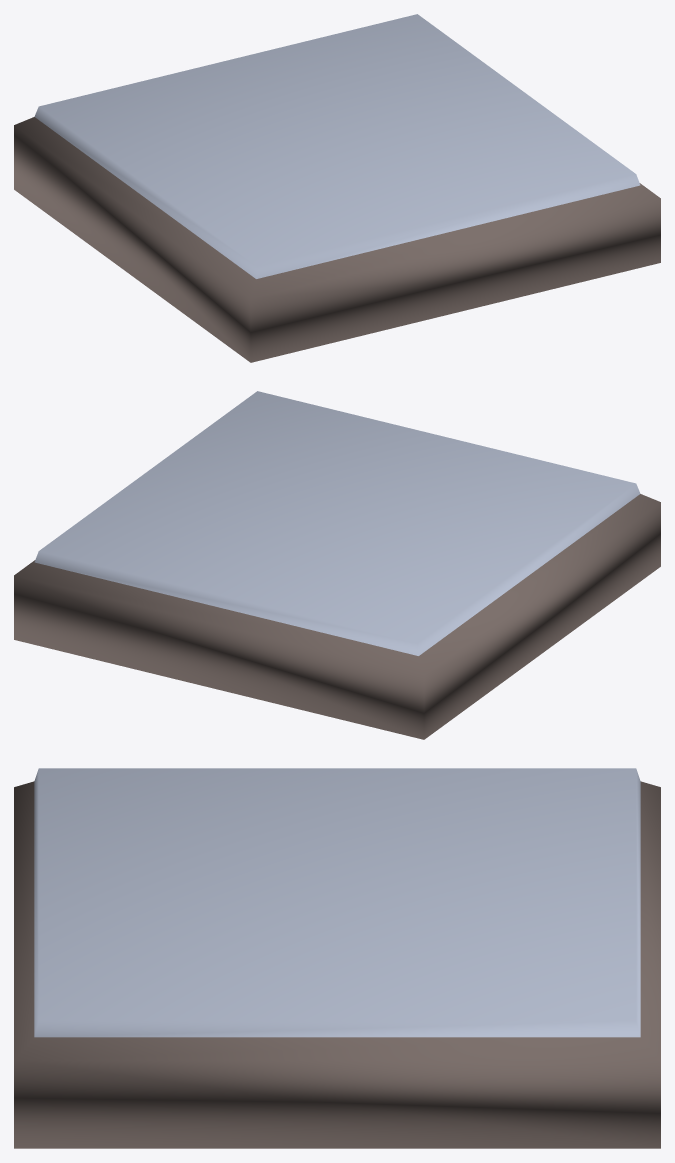
Rendered from FloorTile.glb.
3 views of the same model, one above another, from view 1: azimuth 30°, elevation 25°; view 2: azimuth 150°, elevation 25°; view 3: azimuth 270°, elevation 25° (orthographic). The views are drawn at different scales.
Parts seen in each view (by area): view 1: Top; view 2: Top; view 3: Top.
Boxes of the visible parts, <box> form: Top: <box>14,14,660,362</box>; Top: <box>14,391,660,739</box>; Top: <box>14,768,660,1148</box>.
Bounding box in the file's own units: 2 × 0.4002 × 2.
